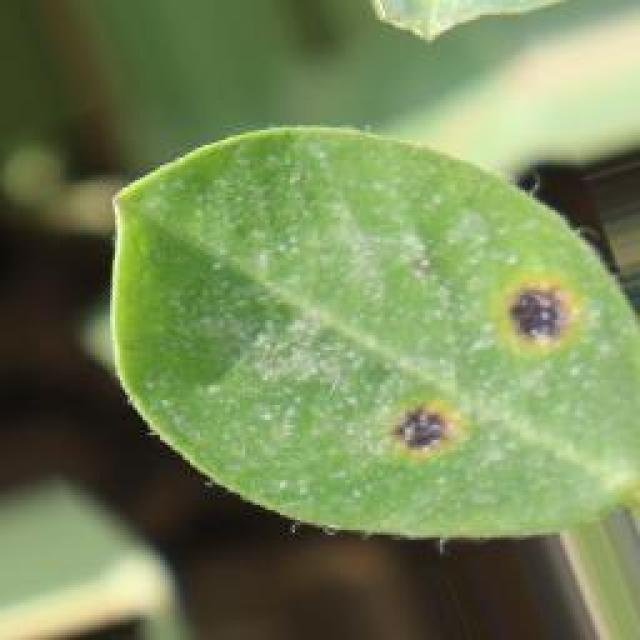Sigatoka: (381, 379, 495, 478), (494, 248, 595, 358)
